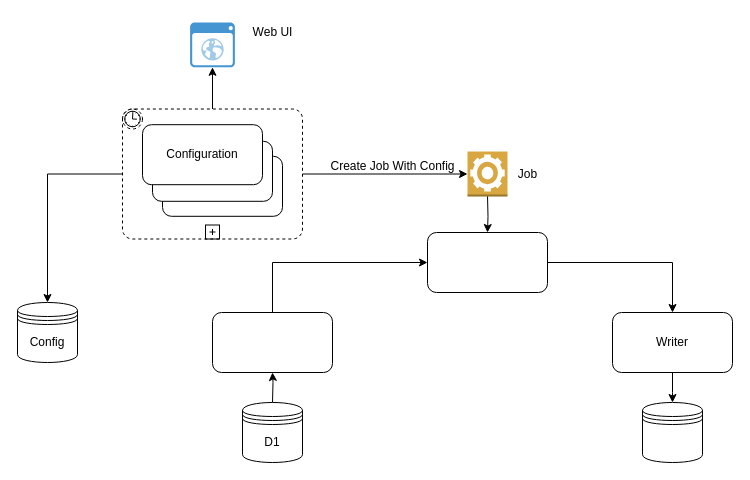
This 750x480 diagram has some shape labels left out. Each missing label, with the centre of its shape:
"D2" goes at point (672, 432).
"Executor" goes at point (487, 262).
"Reader" goes at point (272, 342).
